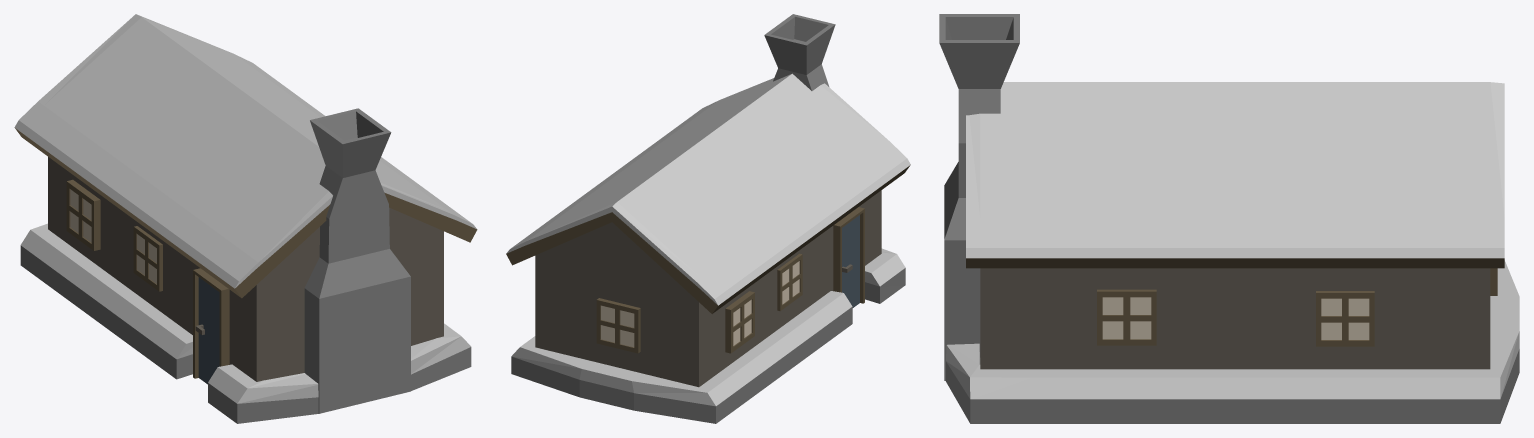
The model's file is FMP_House_1_New.fbx.
3 views of the same model, side by side, from view 1: azimuth 30°, elevation 25°; view 2: azimuth 150°, elevation 25°; view 3: azimuth 270°, elevation 25° (orthographic). The views are drawn at different scales.
Visible parts, largest first — view 1: polySurface20; view 2: polySurface20; view 3: polySurface20.
Boxes of the visible parts, bbox=[...] form: polySurface20: bbox=[14, 14, 477, 423]; polySurface20: bbox=[506, 14, 910, 423]; polySurface20: bbox=[939, 14, 1519, 423].
Size of the model in its own units: 473 by 497 by 800.
